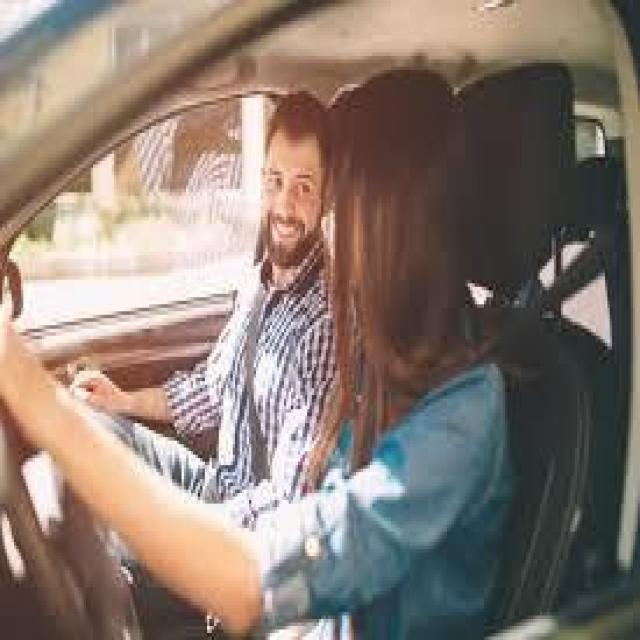seatbelt: (210, 252, 328, 498)
